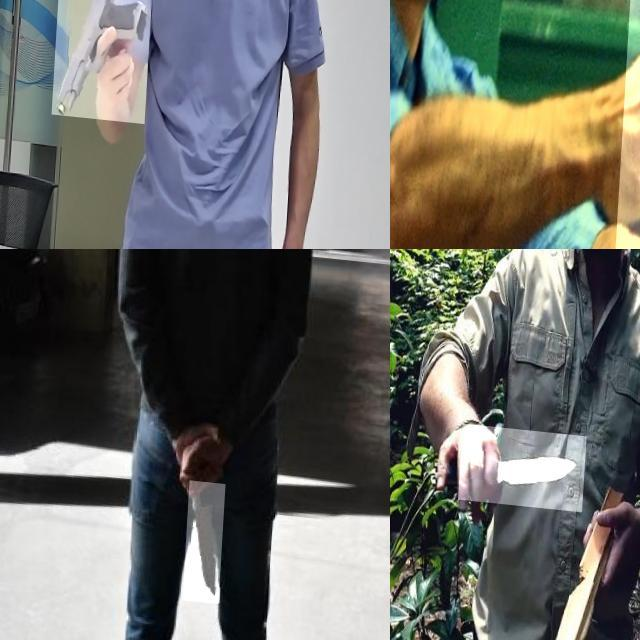-: (464, 419, 591, 505), (189, 476, 231, 598)
gun-knife-thesis - v11 Yolov5 augmented: (54, 0, 154, 119)
